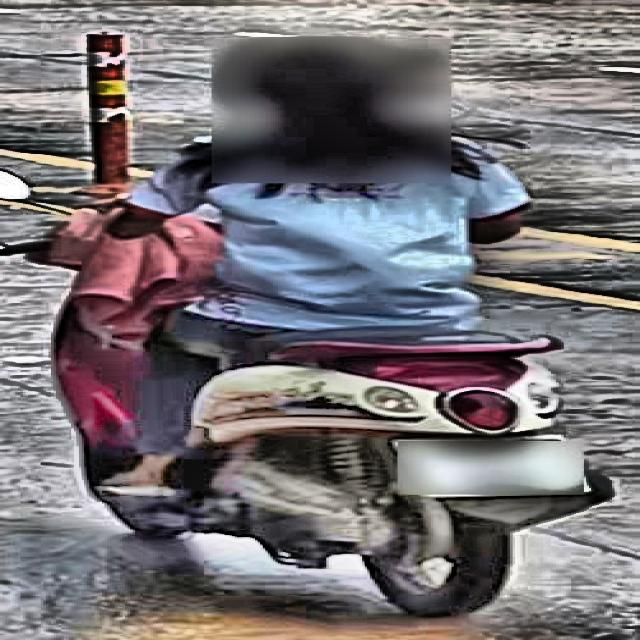motorcycle: (10, 172, 619, 620)
